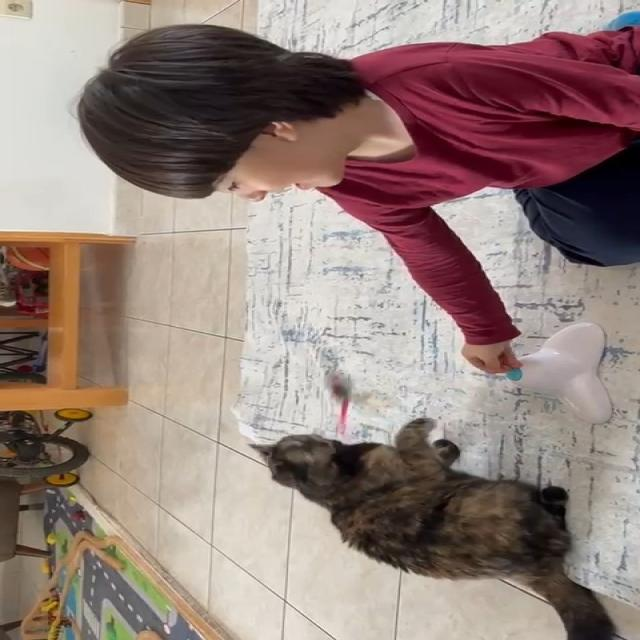authorized: (246, 417, 626, 639)
